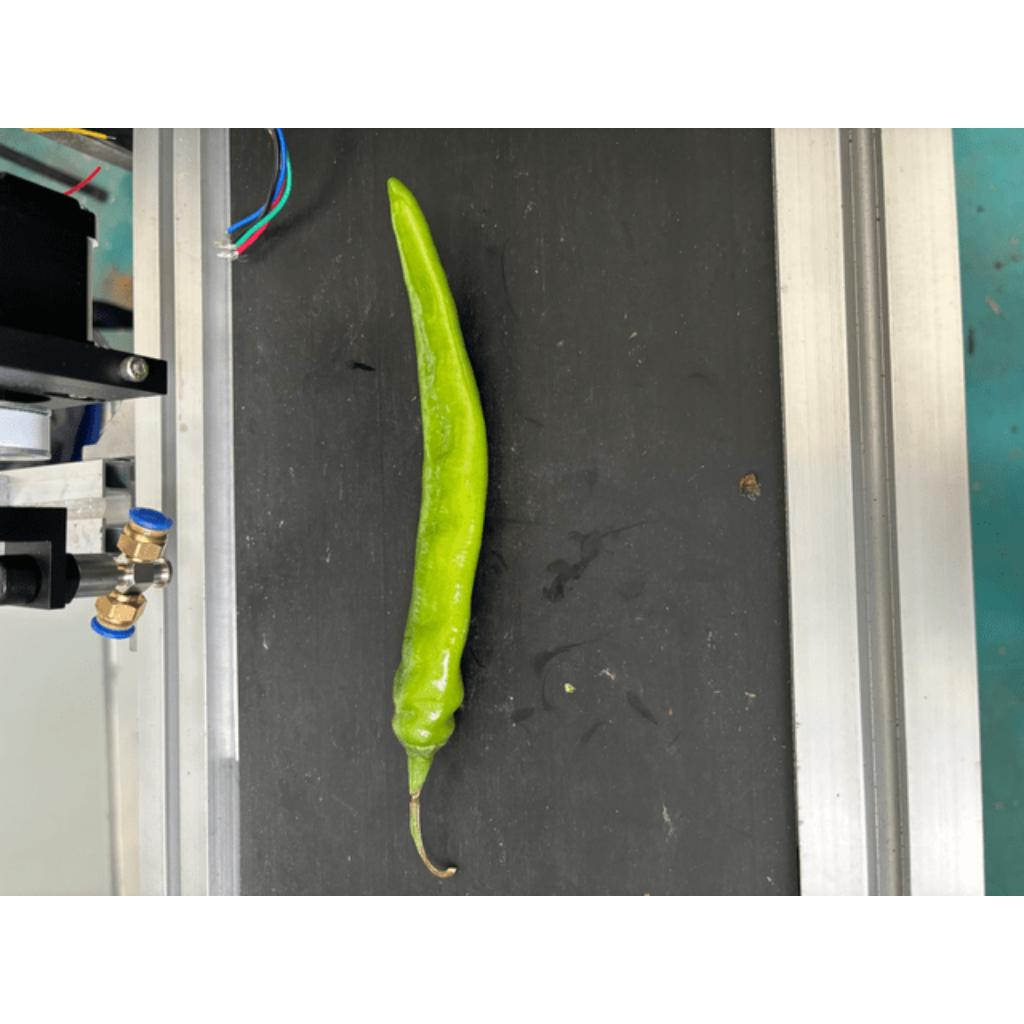chili: (382, 173, 491, 760)
